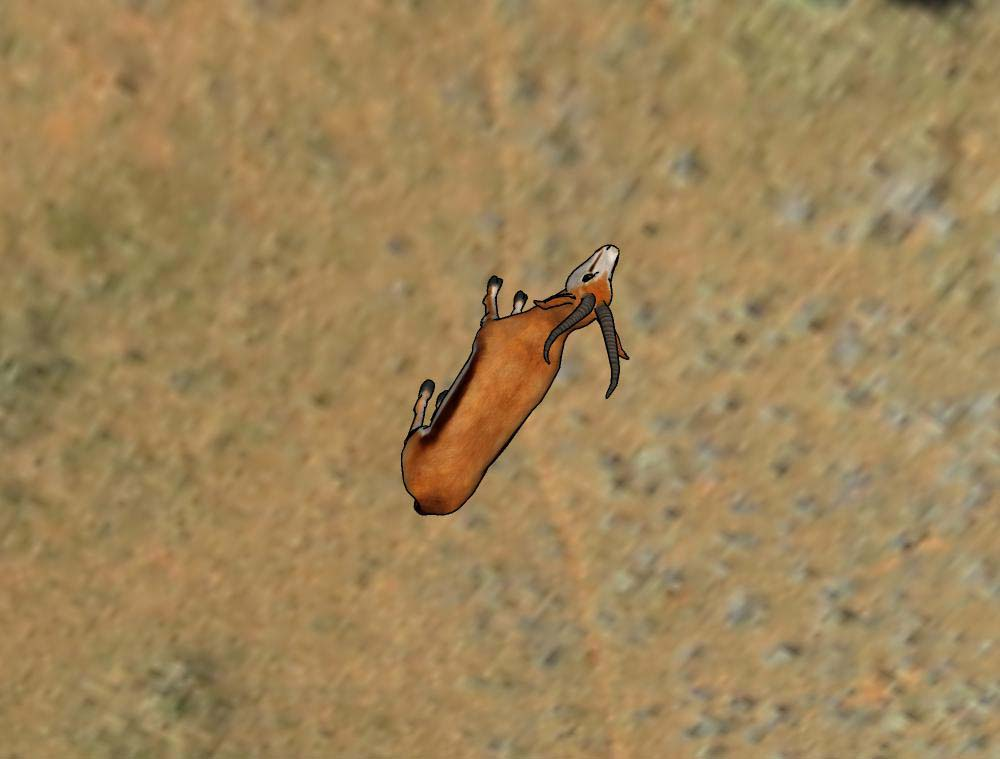springbok: (398, 238, 635, 525)
